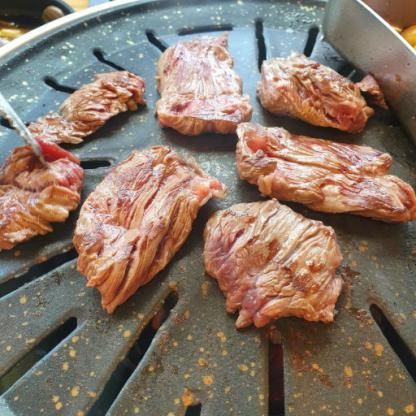Carne: (80, 149, 208, 285), (150, 31, 254, 139), (254, 52, 376, 132), (57, 66, 145, 145)
